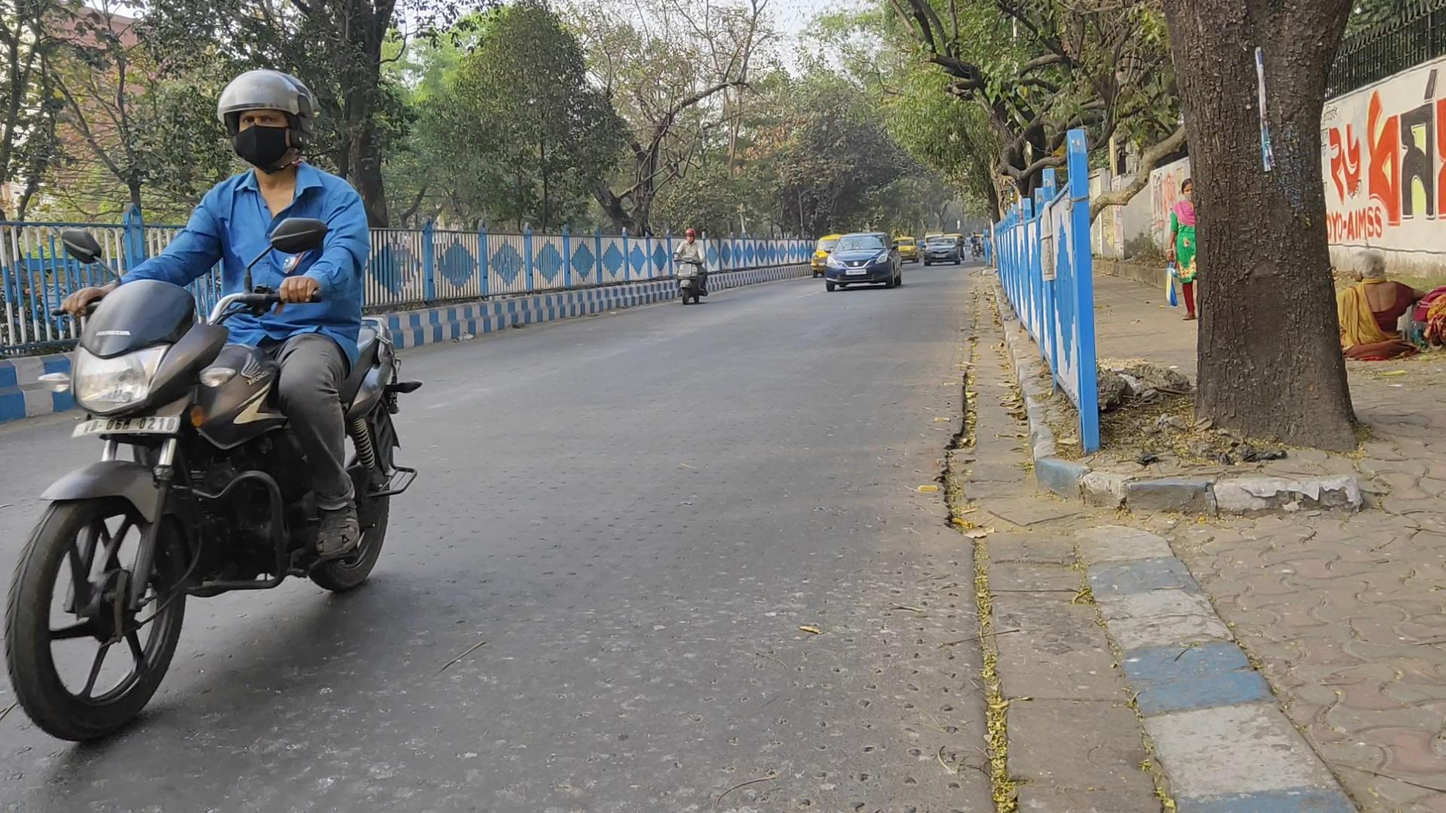Auto: (892, 236, 921, 264)
bike: (6, 70, 418, 744), (676, 226, 706, 303)
car: (824, 232, 901, 293), (810, 235, 856, 279), (923, 236, 962, 266)
